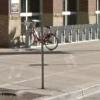Bicycle: (20, 20, 60, 57)
